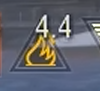1fire: (4, 41, 78, 76)
